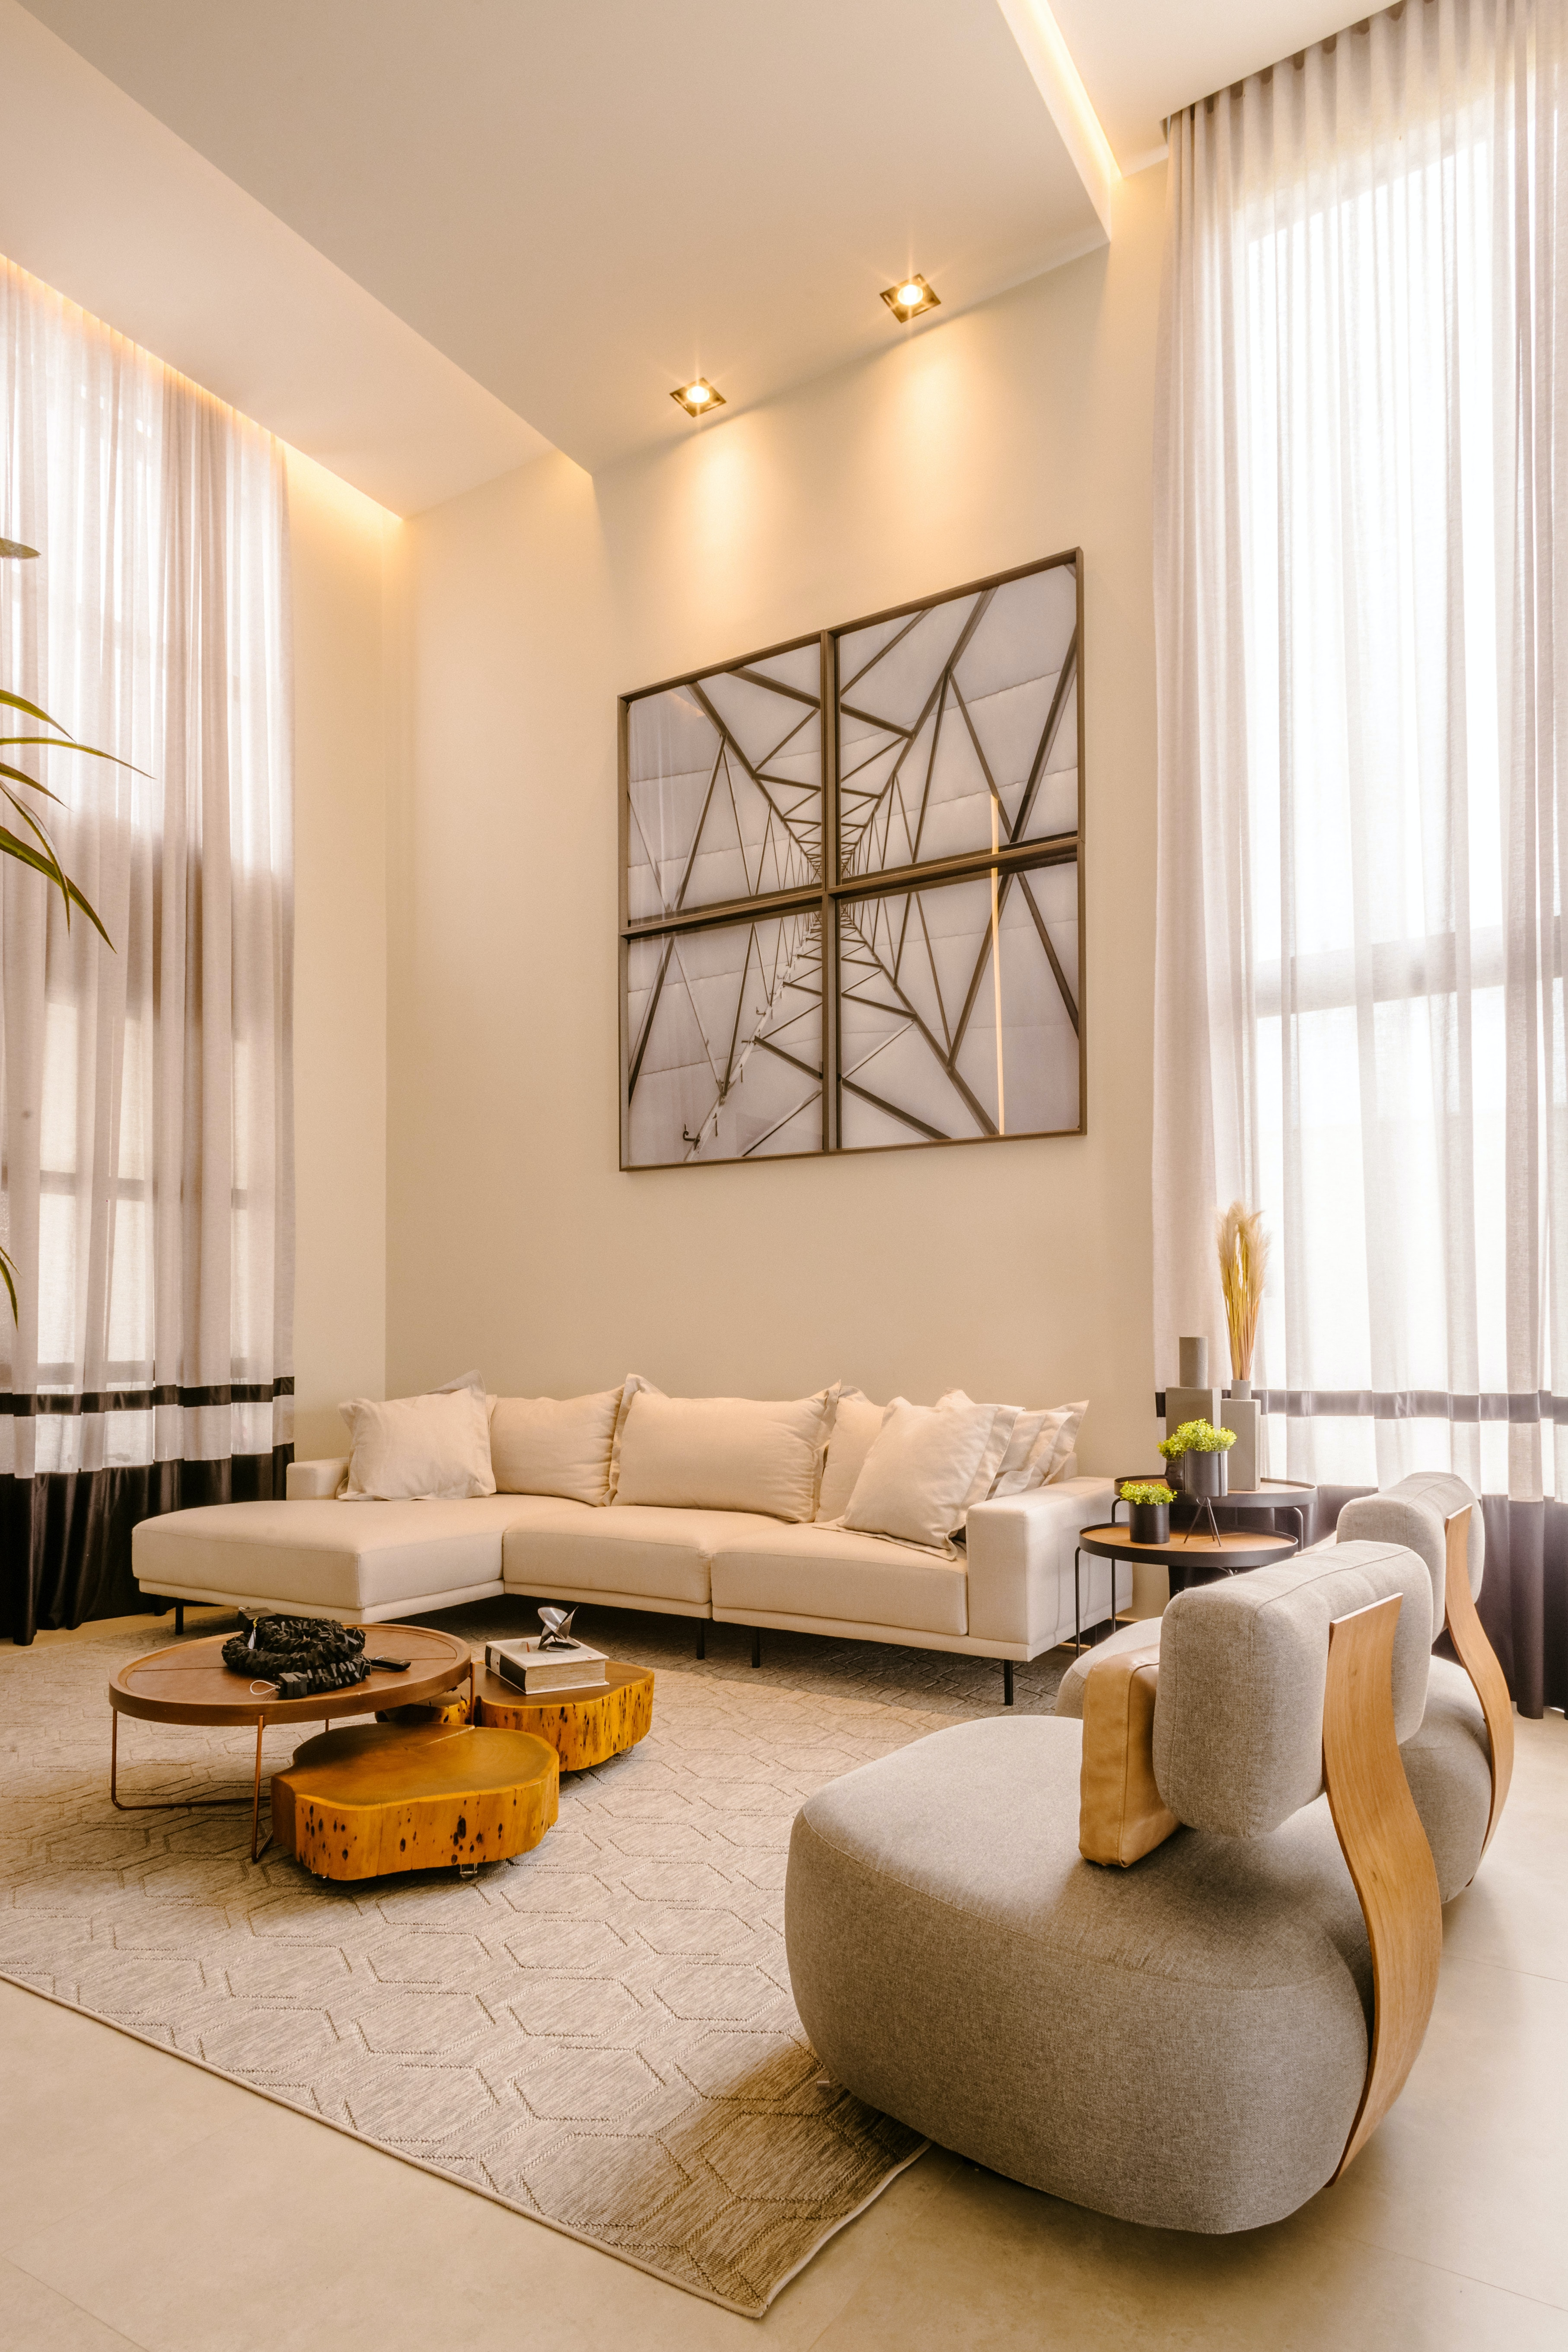Sofa: (110, 1381, 1139, 1691)
Table: (585, 541, 1078, 1190), (91, 1596, 478, 1831)
